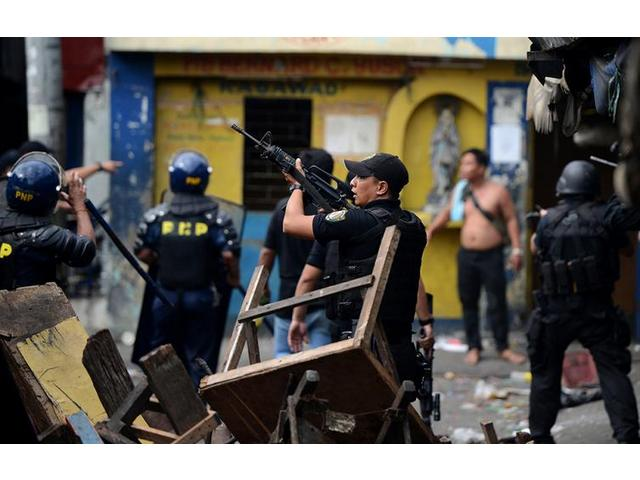rifle: (227, 122, 364, 216)
